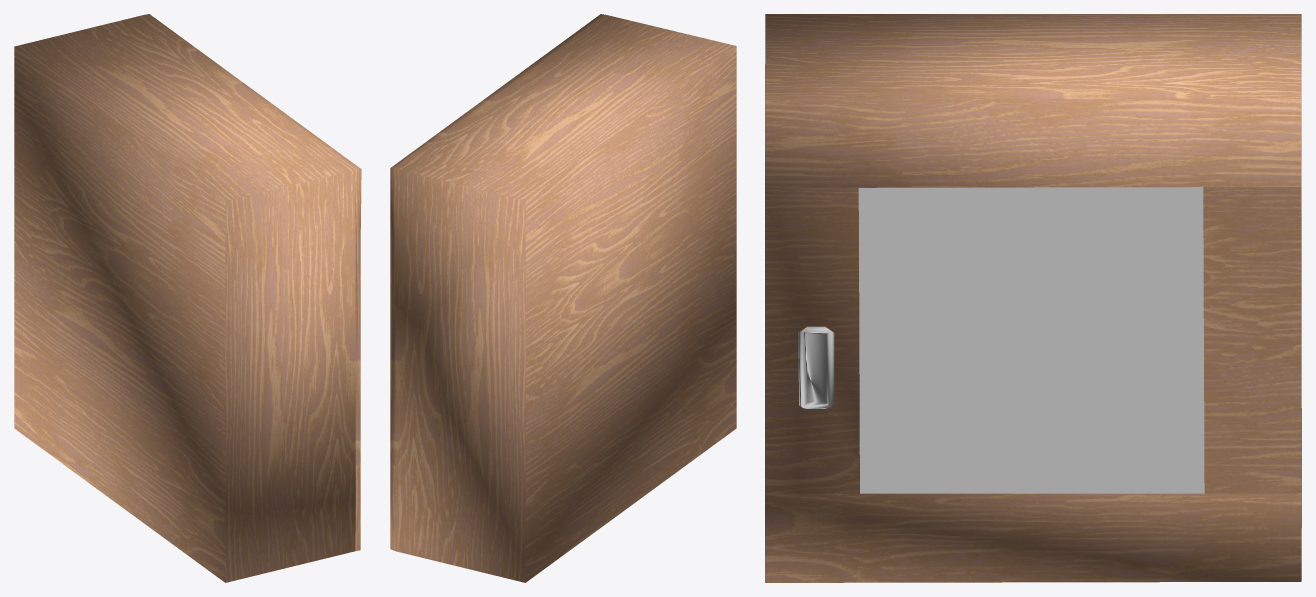
File: wall_locker.dae
3 renders of one model, left to right at view 1: azimuth 30°, elevation 25°; view 2: azimuth 150°, elevation 25°; view 3: azimuth 270°, elevation 25°, orthographic. The views are drawn at different scales.
Parts seen in each view (by area): view 1: TV Furniture; view 2: TV Furniture; view 3: TV Furniture, TV Furniture.001.
Boxes of the visible parts, x1=… form: TV Furniture: x1=14, y1=14, x2=361, y2=582; TV Furniture: x1=390, y1=14, x2=736, y2=582; TV Furniture: x1=765, y1=14, x2=1301, y2=582; TV Furniture.001: x1=798, y1=326, x2=834, y2=408.
Size of the model in its own units: 0.1777 by 0.4656 by 0.4643.
